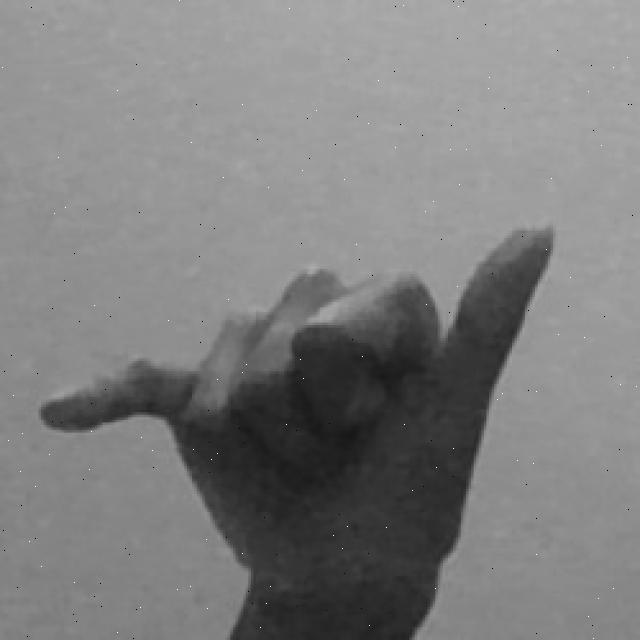Y: (39, 215, 561, 640)
